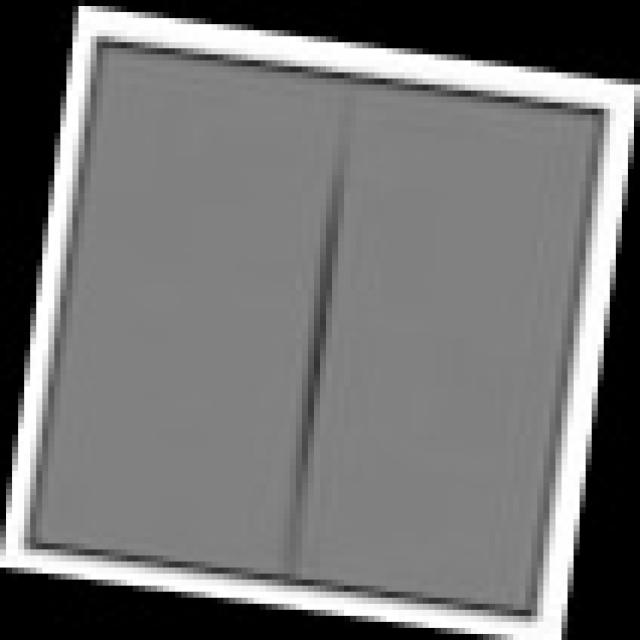Defect5: (234, 75, 372, 582)
